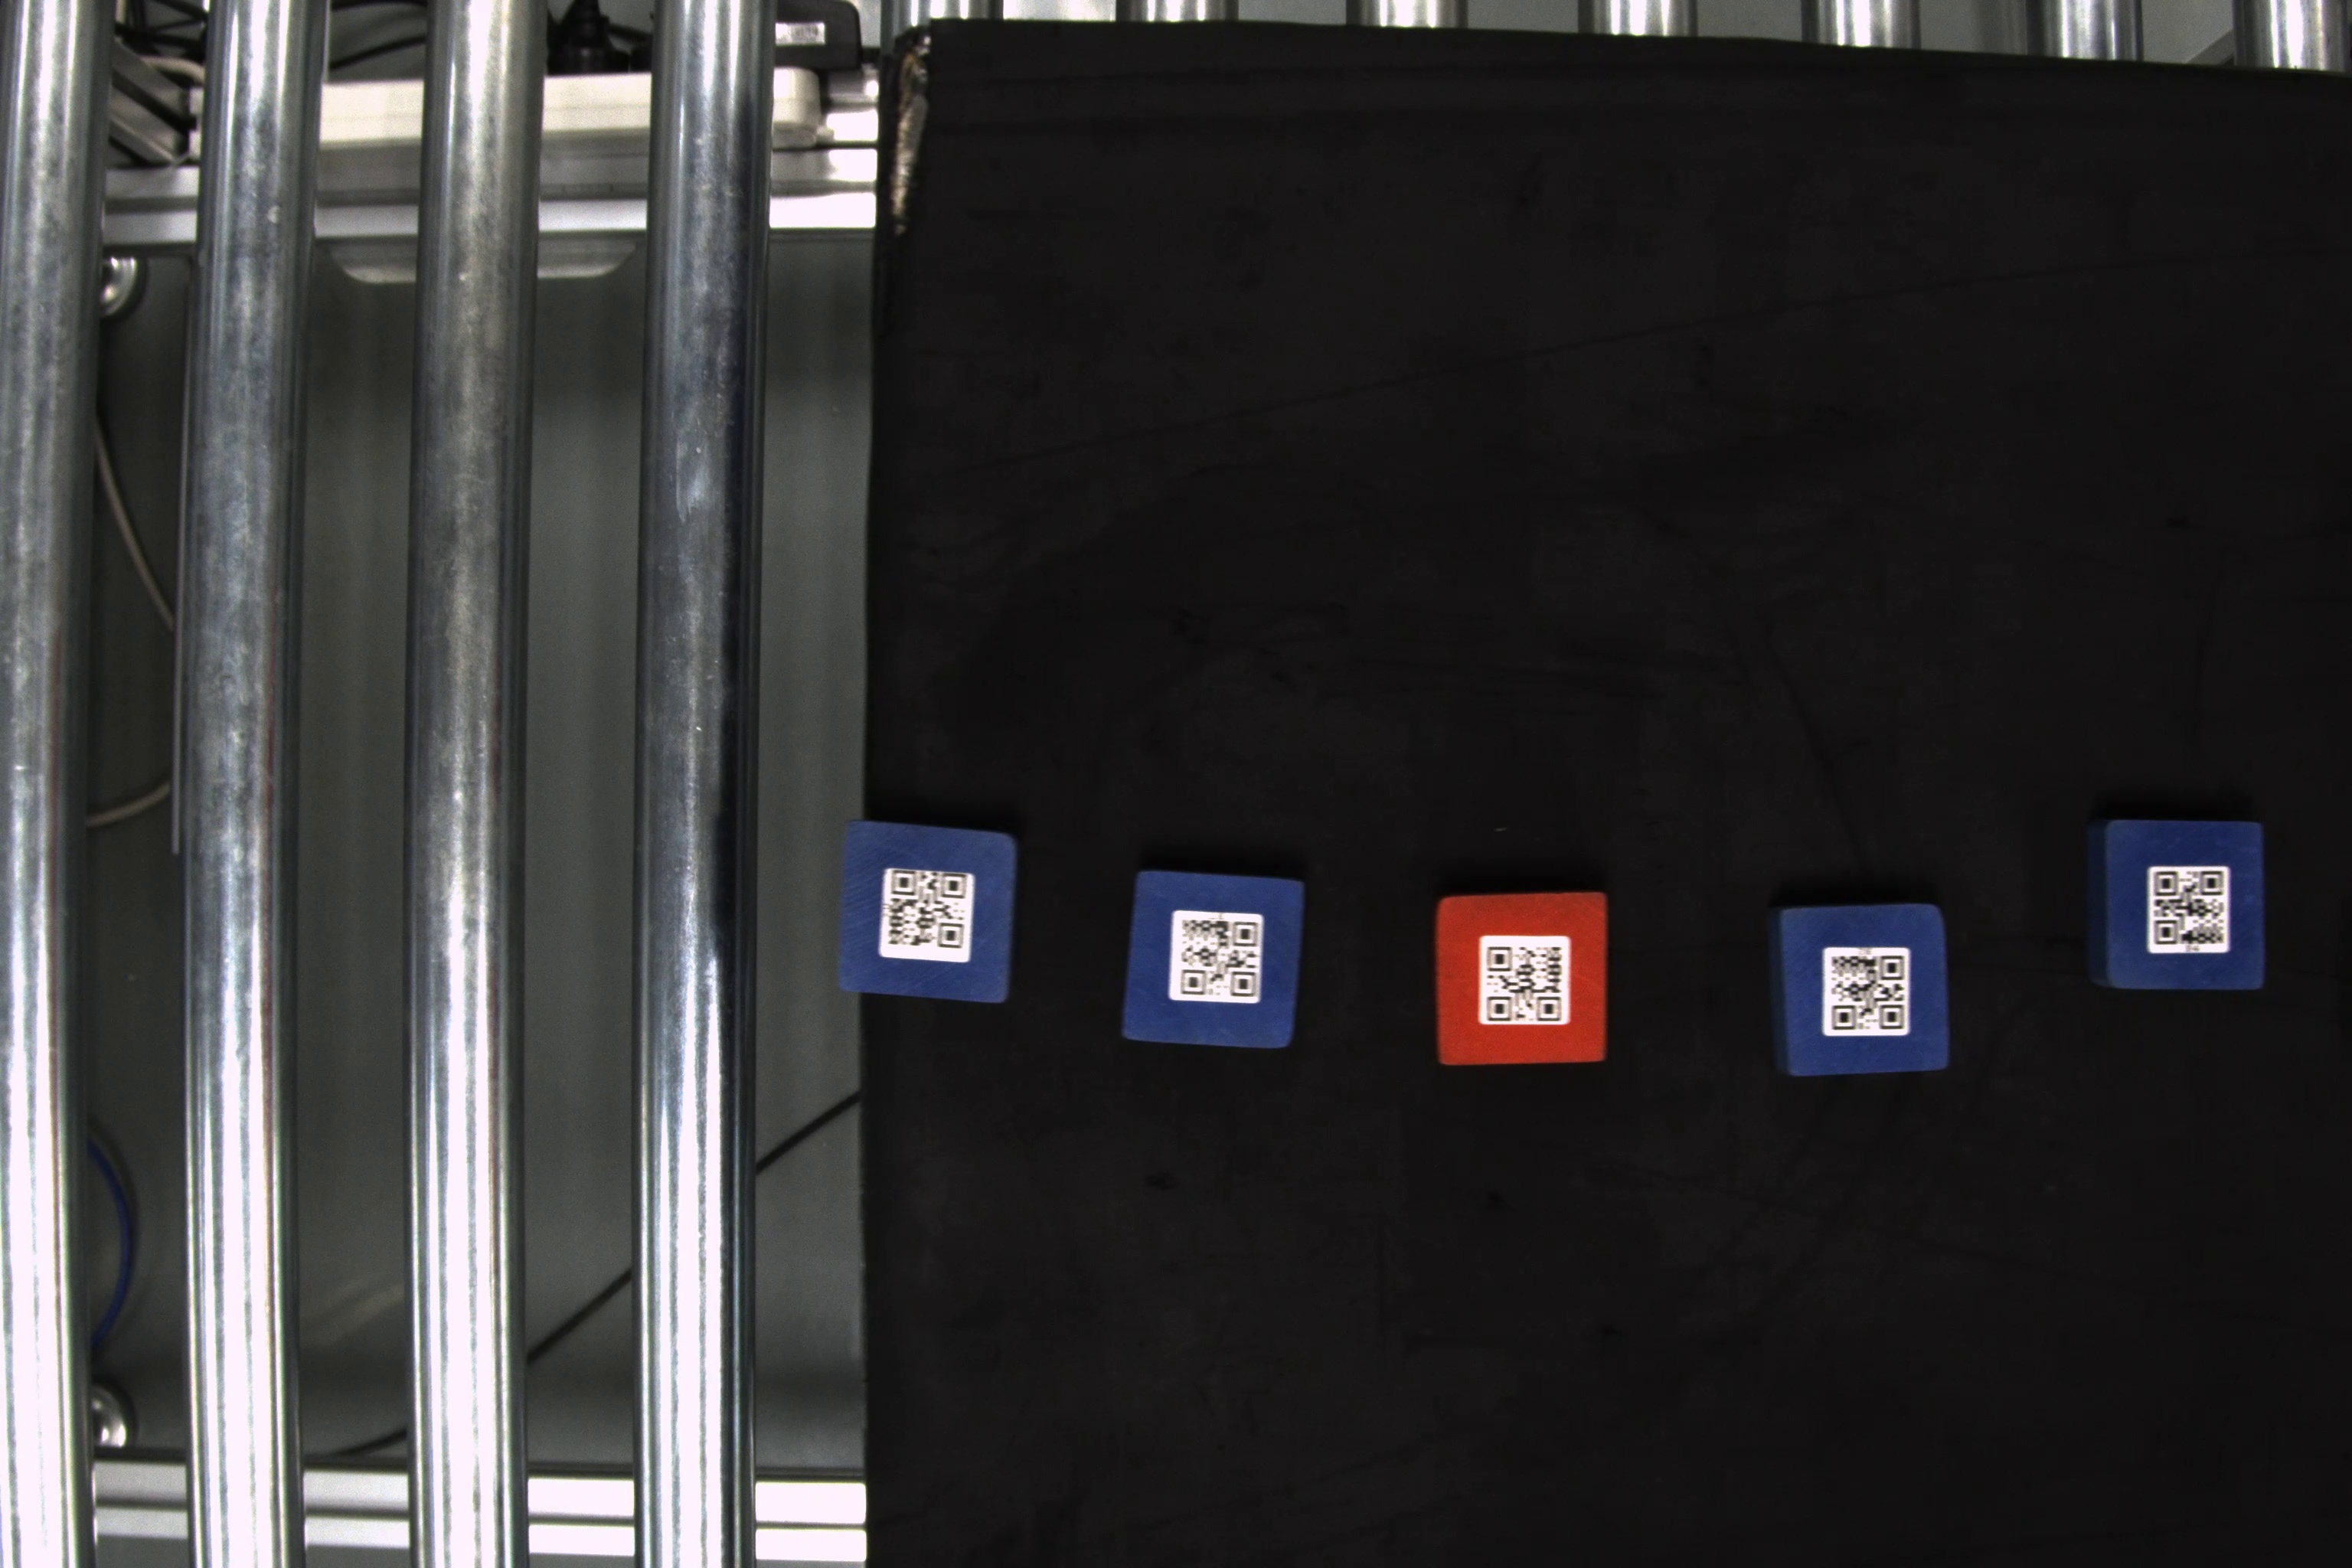wood: (1115, 864, 1307, 1055), (836, 819, 1022, 1011), (1769, 901, 1958, 1083), (1426, 891, 1613, 1069), (2091, 814, 2270, 994)
